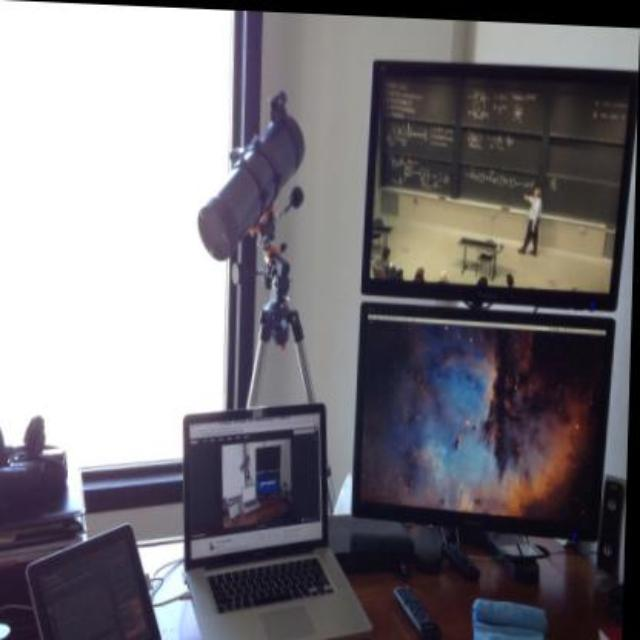Television: (369, 53, 629, 307)
laptop: (171, 416, 368, 640), (27, 526, 160, 640)
remote: (392, 582, 444, 639)
